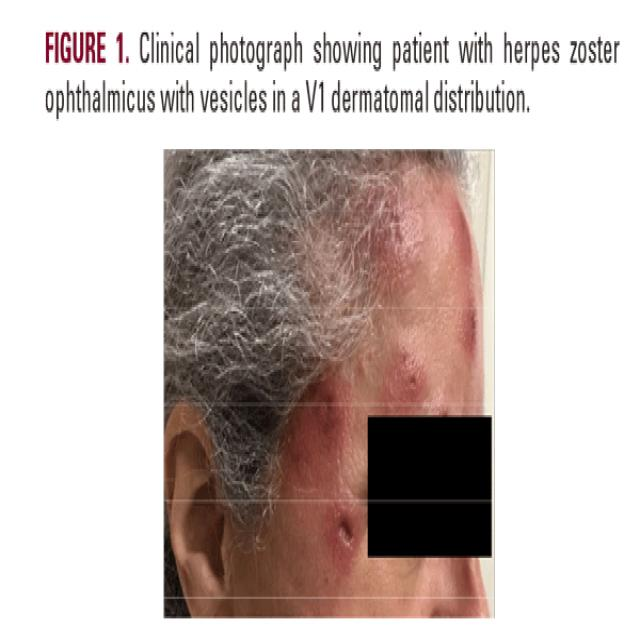herpes zoster: (388, 334, 427, 401), (327, 498, 361, 566), (454, 193, 478, 267), (460, 298, 482, 354)
